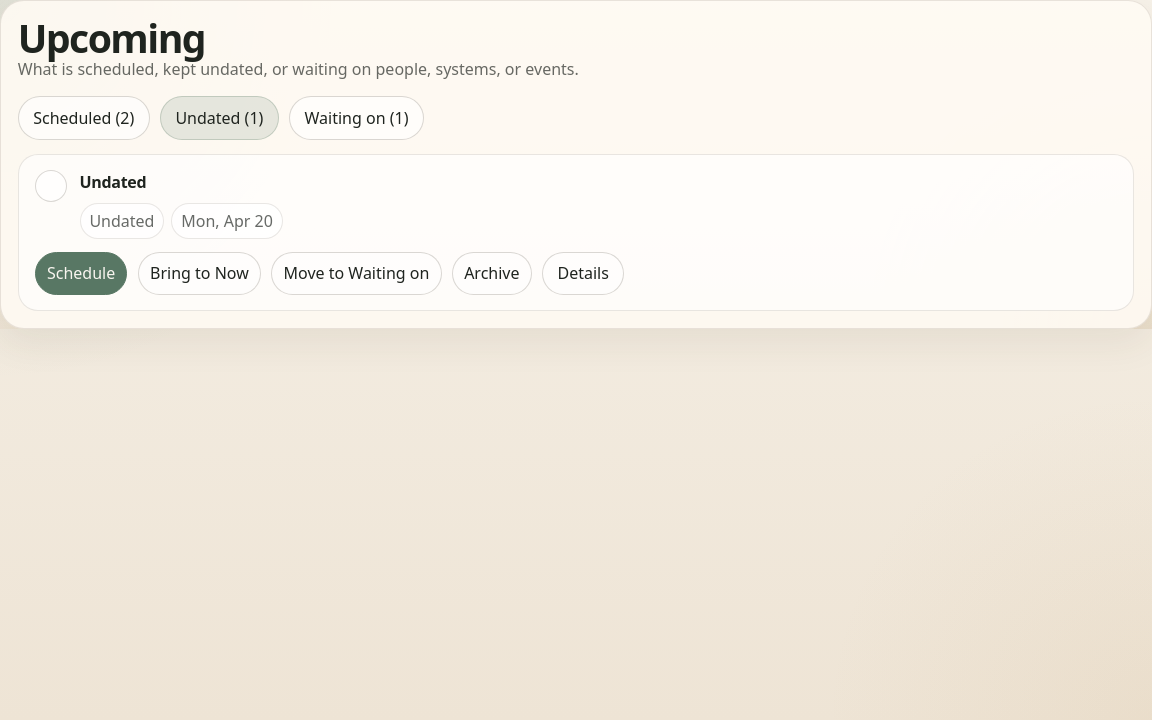
Test: UpcomingView › uses the url-backed section filter and lets the user switch sections
Expected: the heading "Undated" is shown, [80,170,146,194]
Expected: the button "Schedule" is shown, [35,252,127,295]
Click the button "Waiting on (1)" at [356, 118], box [289,96,424,140]
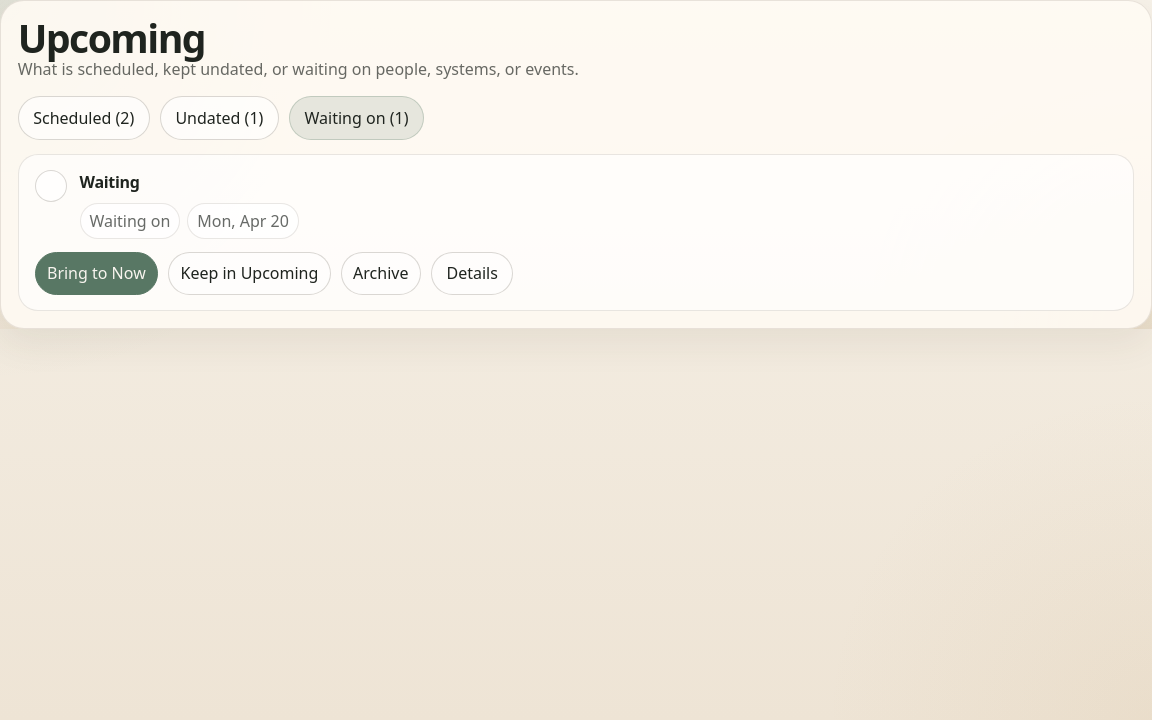
Now the heading "Waiting" is shown, box [80,170,140,194]
Now the button "Keep in Upcoming" is shown, box [168,252,330,295]
